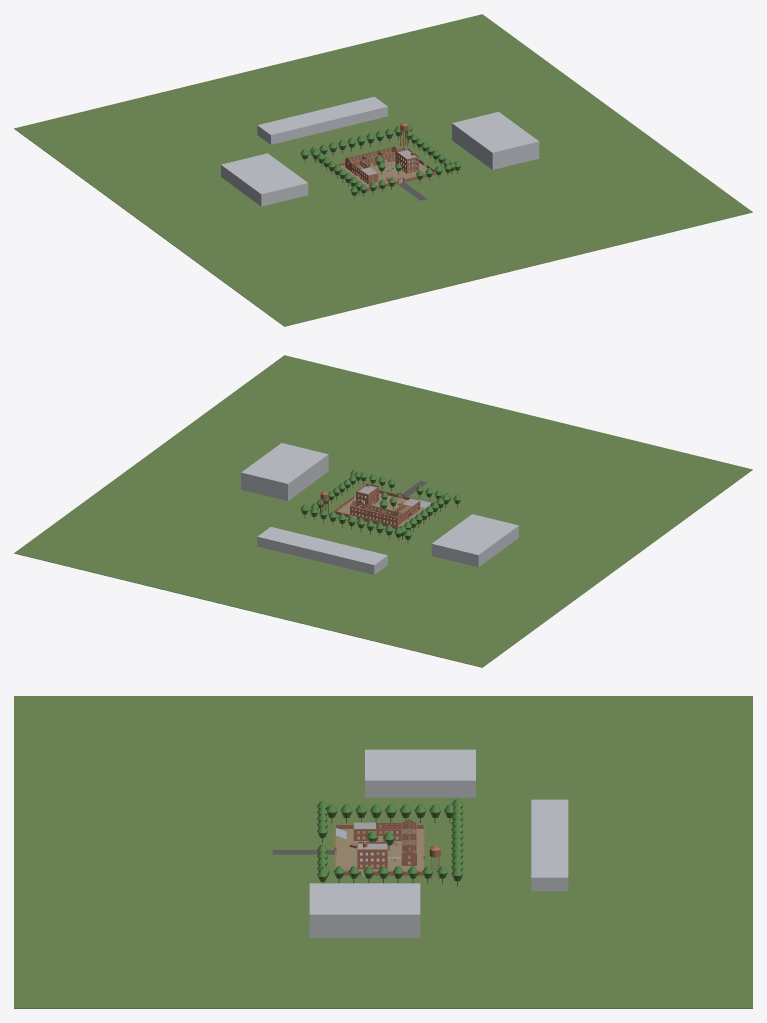
File: bando_c.glb
The picture shows the model from 3 angles, top to bottom: view 1: azimuth 30°, elevation 25°; view 2: azimuth 150°, elevation 25°; view 3: azimuth 270°, elevation 25°; orthographic projection. The views are drawn at different scales.
Parts seen in each view (by area): view 1: far_ground, block_001, block, block_002, compound_ground; view 2: far_ground, block_001, block, block_002, compound_ground; view 3: far_ground, block_001, block, block_002, compound_ground.
Boxes of the visible parts, left/top/right/bottom form: far_ground: left=14, top=14, right=752, bottom=326; block_001: left=452, top=112, right=539, bottom=169; block: left=221, top=153, right=308, bottom=206; block_002: left=257, top=96, right=387, bottom=144; compound_ground: left=340, top=158, right=427, bottom=187; far_ground: left=14, top=355, right=752, bottom=667; block_001: left=241, top=443, right=328, bottom=500; block: left=431, top=514, right=518, bottom=567; block_002: left=257, top=527, right=387, bottom=574; compound_ground: left=337, top=493, right=430, bottom=526; far_ground: left=14, top=696, right=752, bottom=1008; block_001: left=309, top=883, right=420, bottom=937; block: left=365, top=749, right=475, bottom=797; block_002: left=531, top=799, right=568, bottom=891; compound_ground: left=336, top=829, right=423, bottom=875.
Bounding box in the file's own units: 400 × 19.85 × 400.
